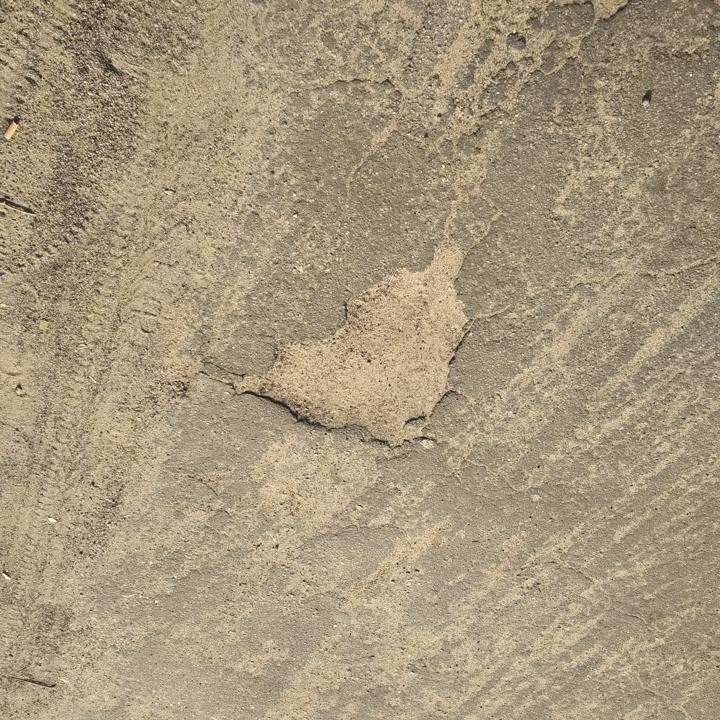pothole: (226, 247, 477, 453)
